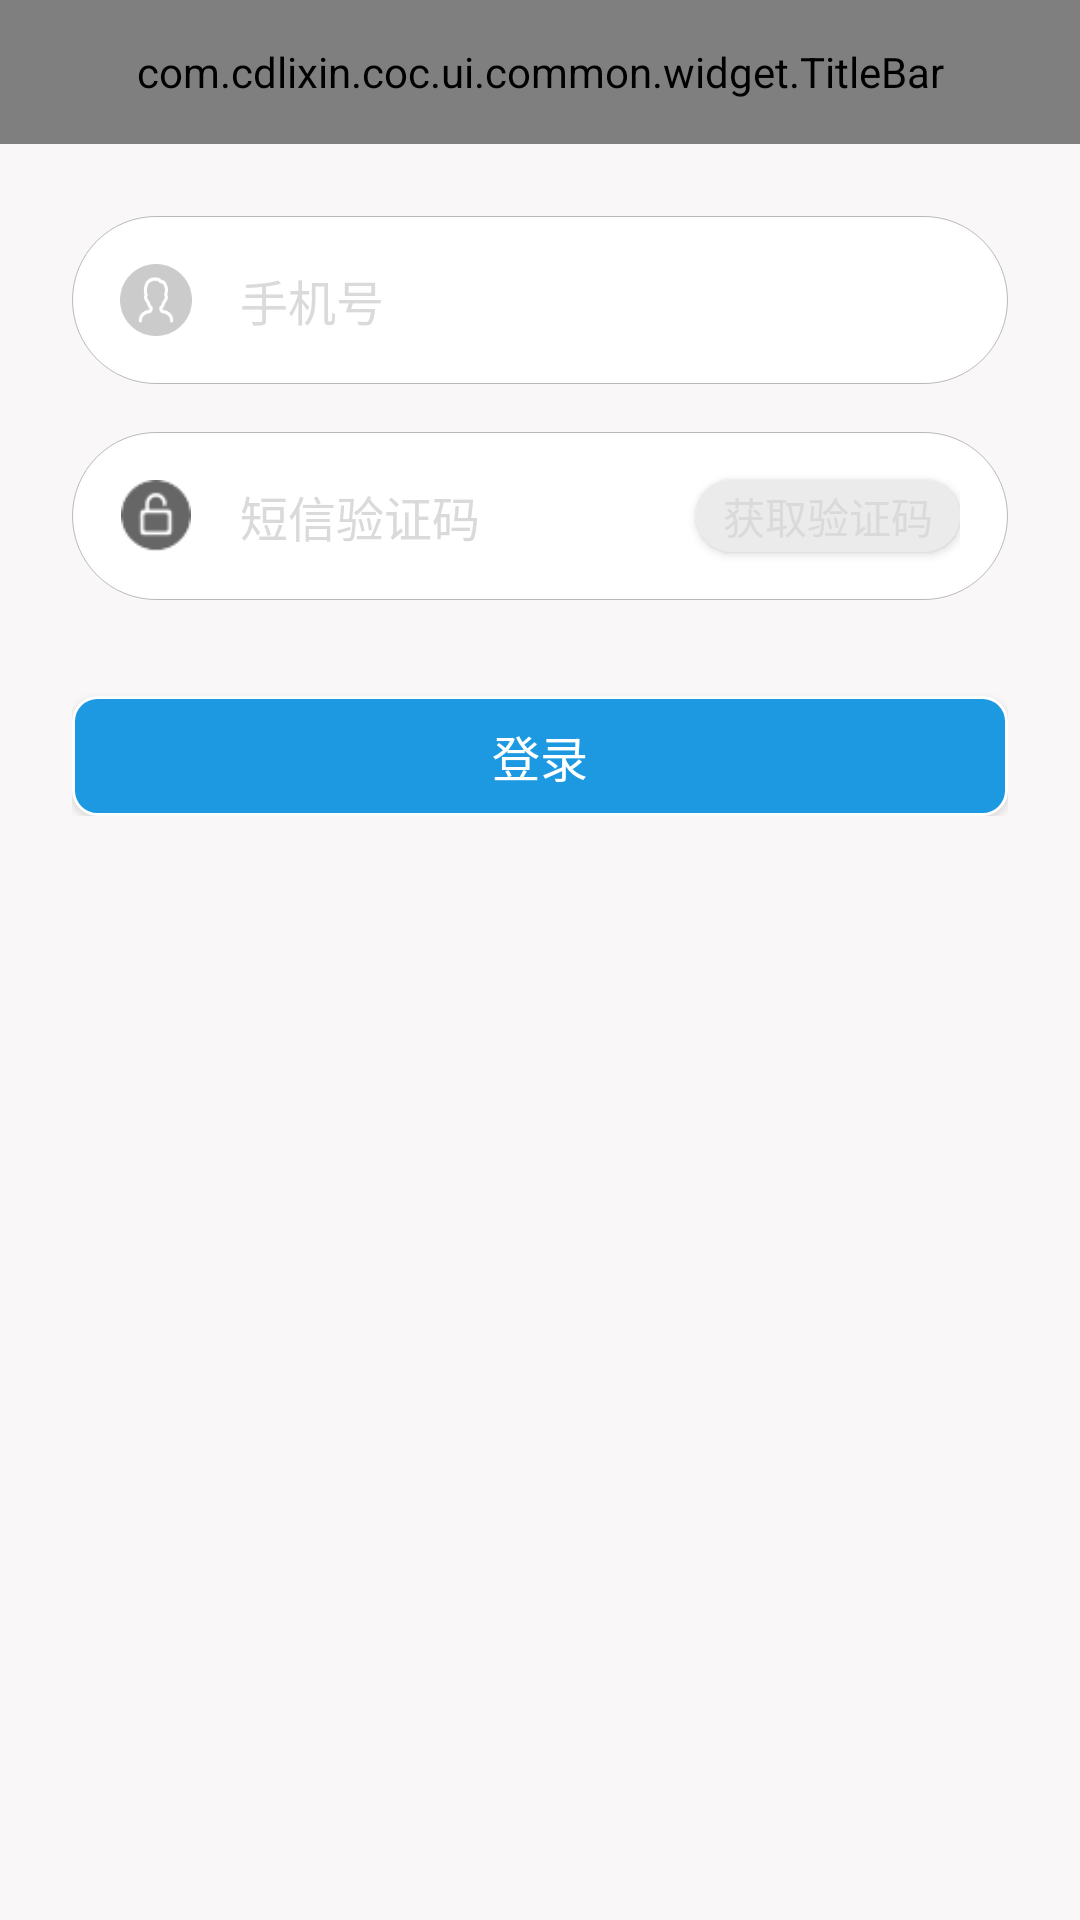

Icons on this 1080w x 1920h Android screen, each with its box as (x1, y1, x2, y2):
password: (121, 480, 191, 551)
